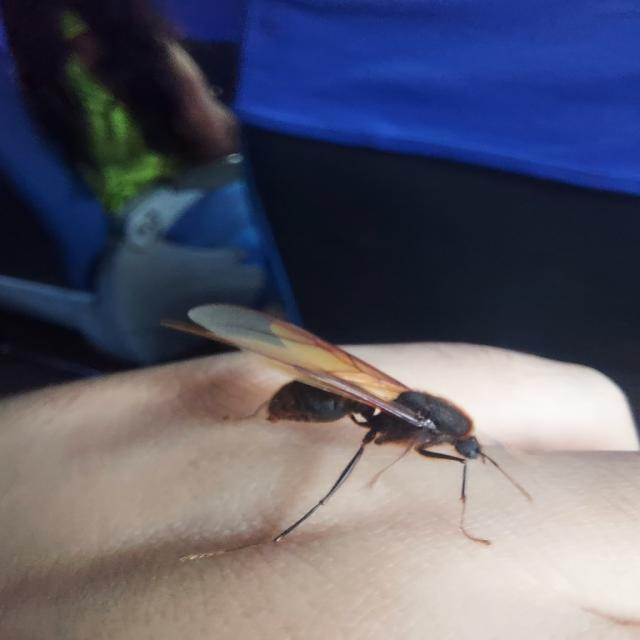Alive-Male-Alate: (157, 301, 535, 564)
